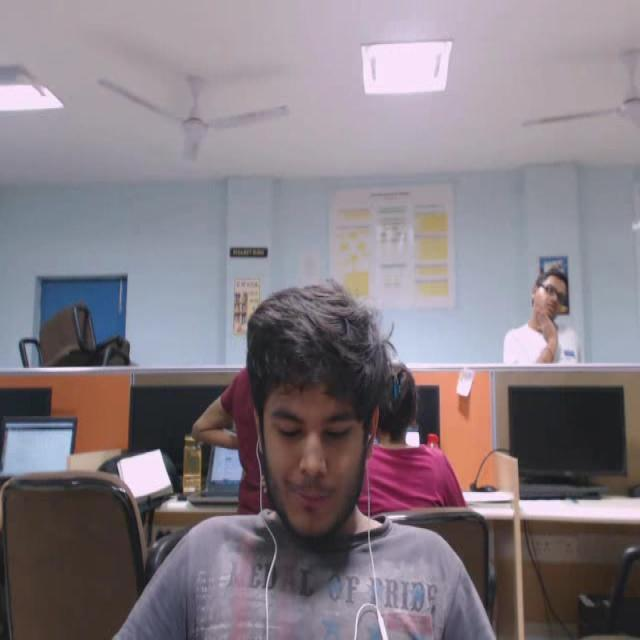Engaged: (203, 251, 440, 562)
